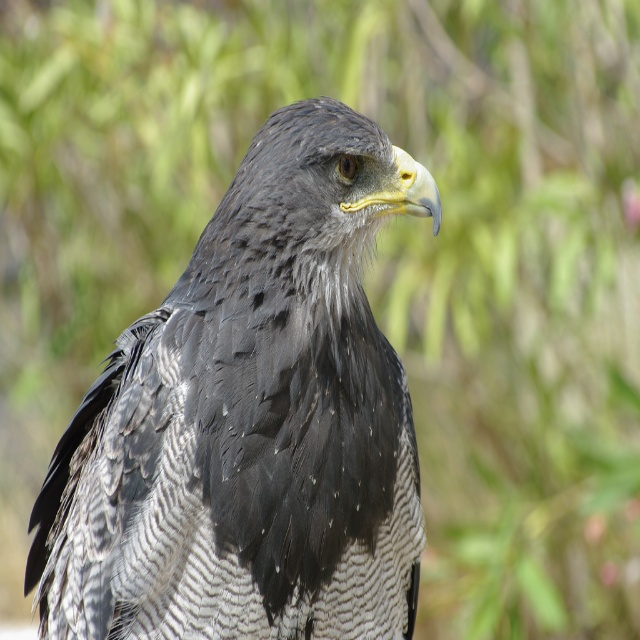Eagle: (18, 97, 449, 635)
